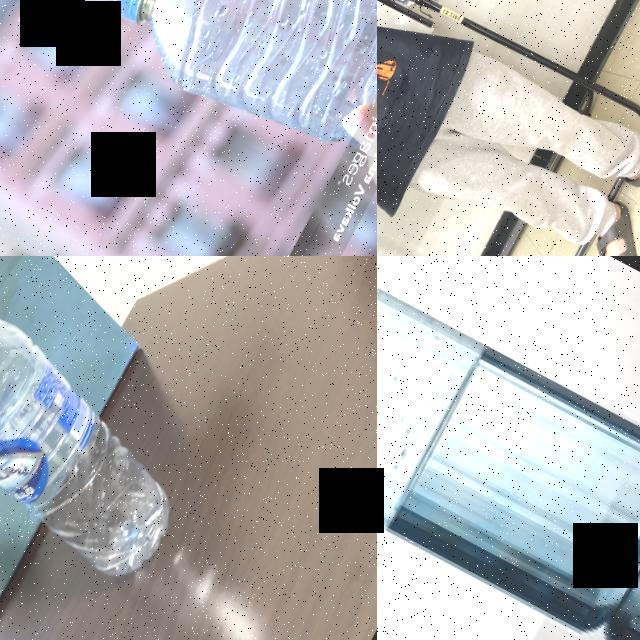bottle: (377, 256, 640, 640), (0, 265, 232, 607), (83, 0, 377, 224)
